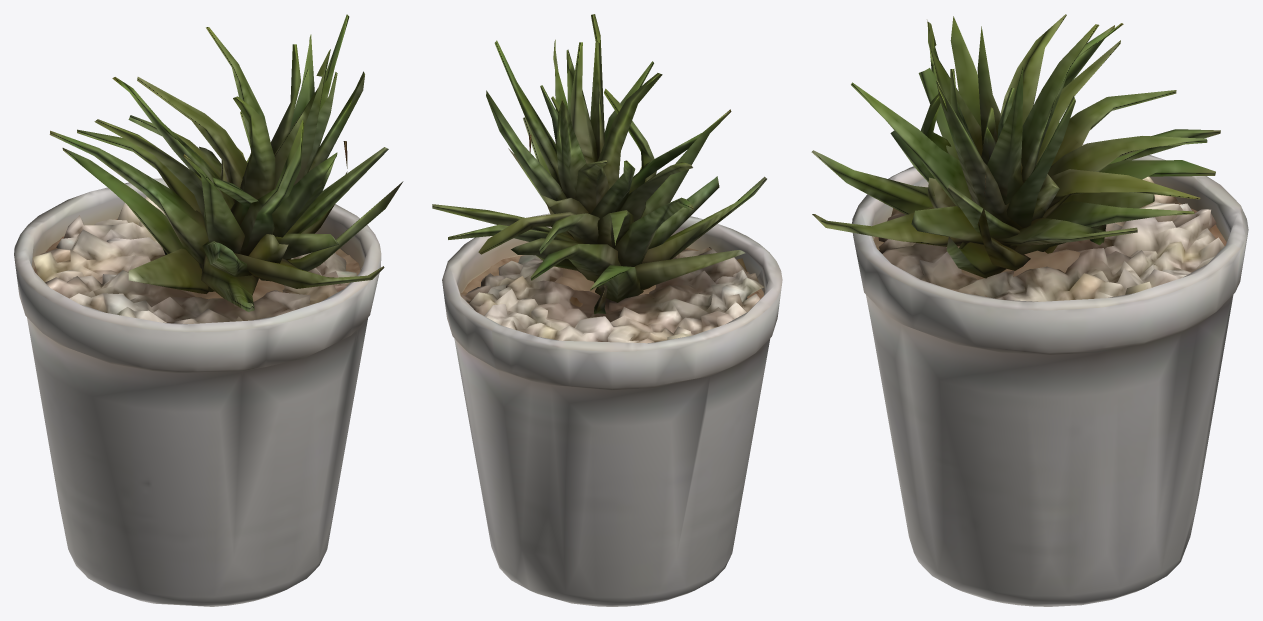
Rendered from plant_succ.glb.
3 views of the same model, side by side, from view 1: azimuth 30°, elevation 25°; view 2: azimuth 150°, elevation 25°; view 3: azimuth 270°, elevation 25° (orthographic). The views are drawn at different scales.
Visible parts, largest first — view 1: potted_plant_04_ground; view 2: potted_plant_04_ground; view 3: potted_plant_04_ground.
Boxes of the visible parts, left/top/right/bottom form: potted_plant_04_ground: left=14, top=14, right=403, bottom=606; potted_plant_04_ground: left=432, top=14, right=782, bottom=606; potted_plant_04_ground: left=811, top=14, right=1248, bottom=606.
Size of the model in its own units: 0.1672 by 0.2671 by 0.1845.
1 material, 1 textured.
